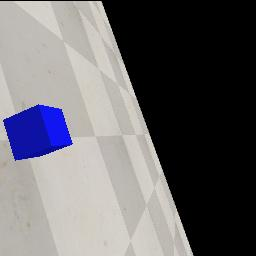box: (3, 104, 73, 161)
